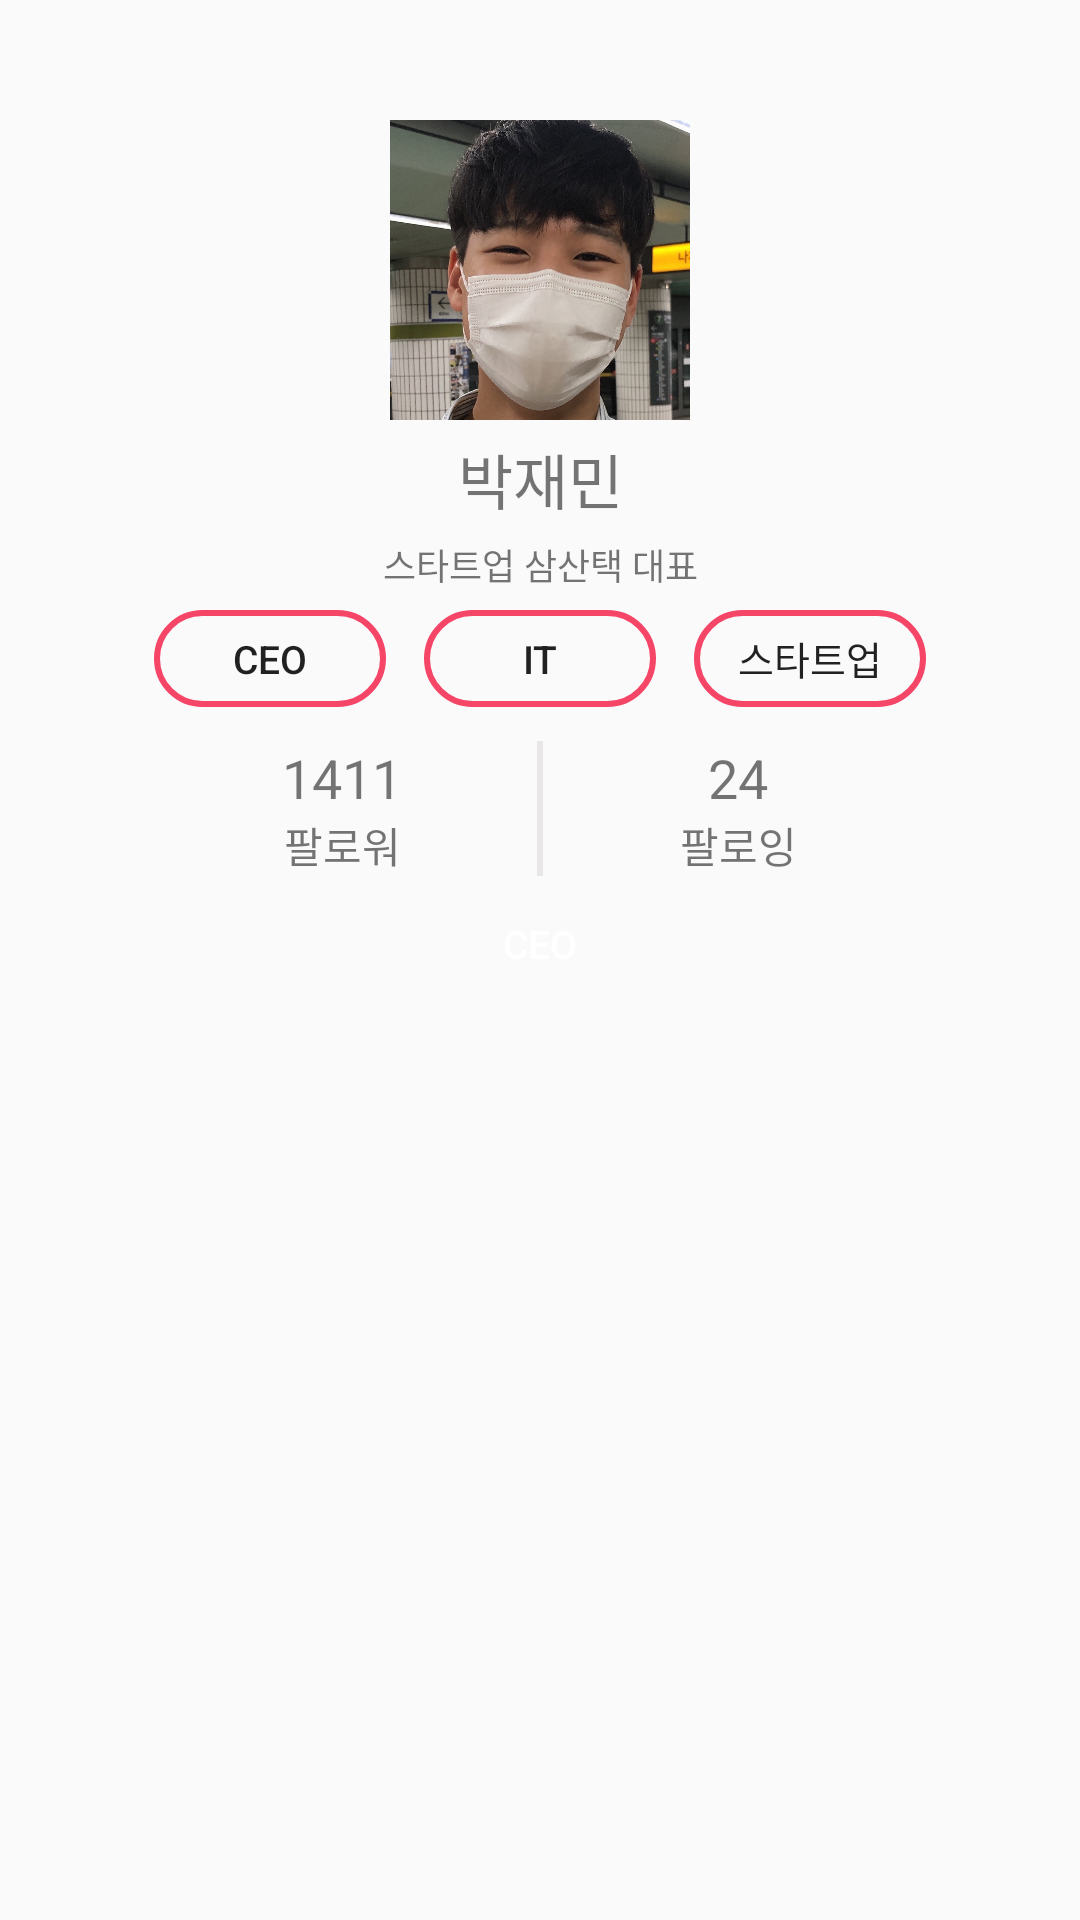

Where to tap for icons on this 1080*1920 app screen, as point (x, y):
user: point (540, 270)
